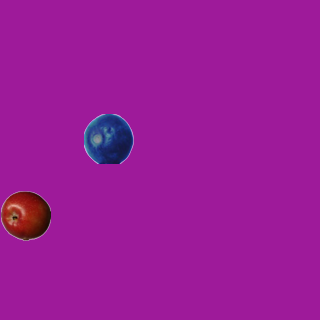Apple Braeburn: (0, 190, 50, 240)
Huckleberry: (83, 113, 133, 163)
